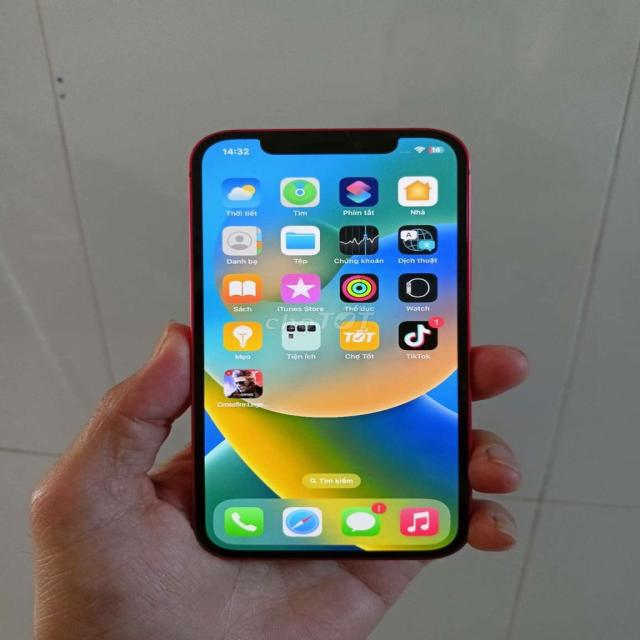gen_12_13: (190, 130, 477, 562)
